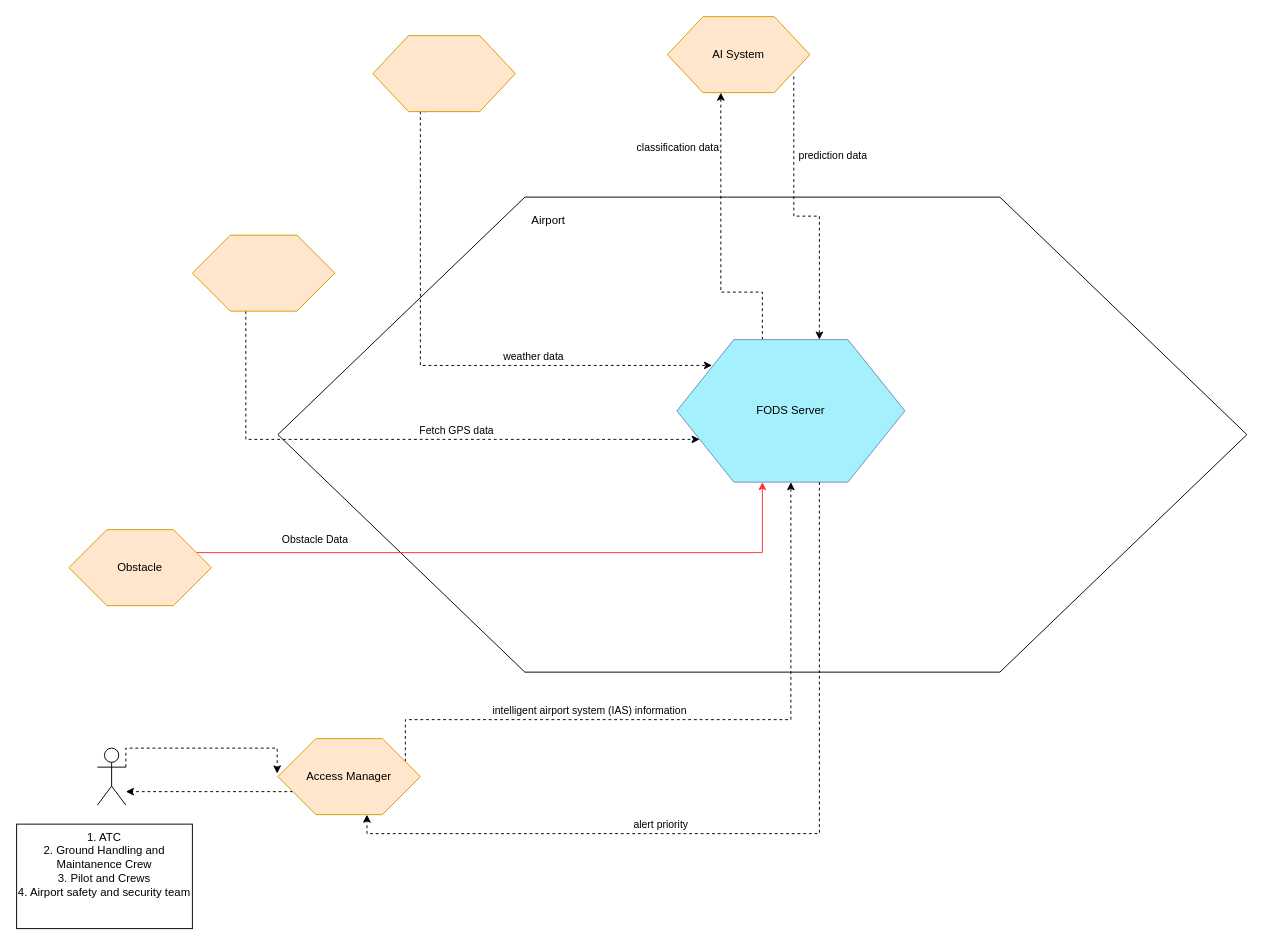
Some shapes in this 1264 by 945 pixel diagram are drawn without their labels. Here are the shapes that lost their labels. From the top down, the centre of each, then its label:
At pixel 443 73: "Weather System".
At pixel 263 272: "GPS System".
At pixel 111 776: "Stakeholders".
